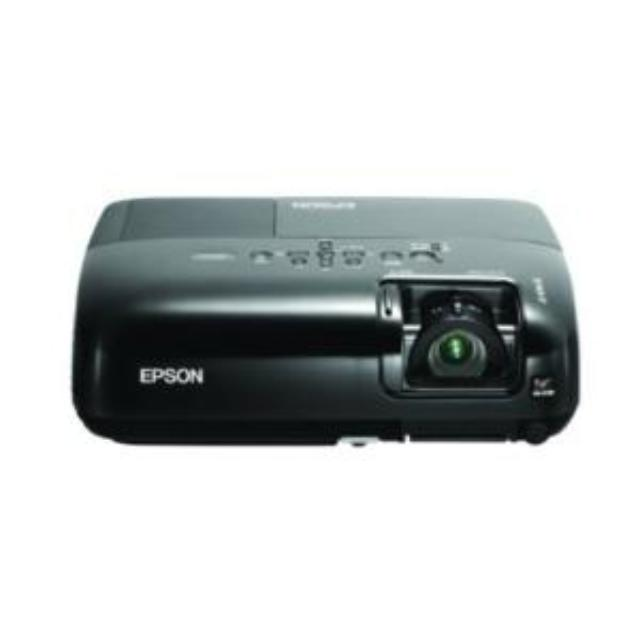Projector: (65, 191, 583, 464)
